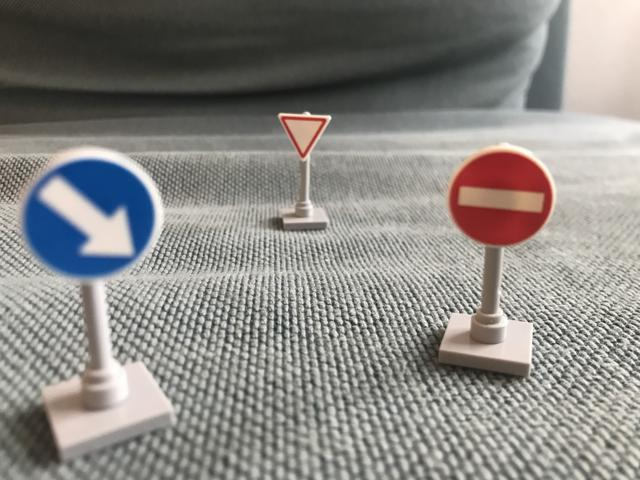rechts halten: (17, 144, 169, 282)
verbot der einfahrt: (443, 146, 558, 248)
vorfahrt gewähren: (274, 112, 336, 163)
